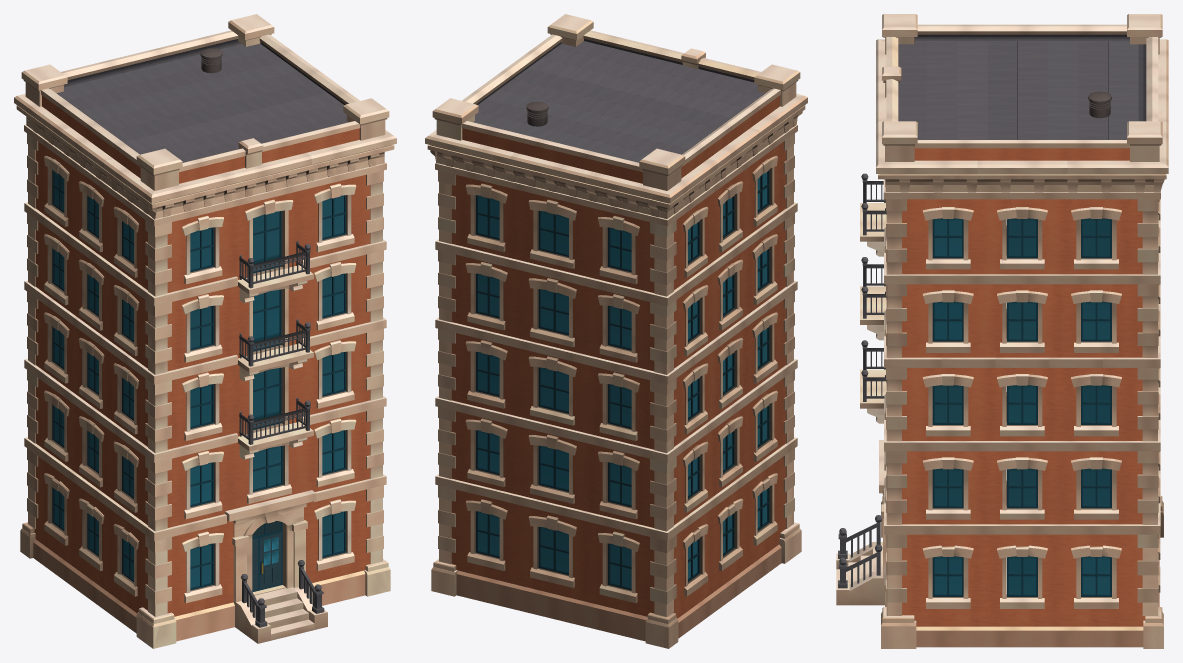
File: houdini_brick_townhouse.glb
3 renders of one model, left to right at view 1: azimuth 30°, elevation 25°; view 2: azimuth 150°, elevation 25°; view 3: azimuth 270°, elevation 25°, orthographic. The views are drawn at different scales.
Visible parts, largest first — view 1: LOD0; view 2: LOD0; view 3: LOD0.
Boxes of the visible parts, x1,y1,x2,y2 form: LOD0: (14,14,396,648); LOD0: (425,14,807,648); LOD0: (836,14,1168,648).
Size of what is drawn, in the model's own units: 10.1 by 18.99 by 11.13.
Materials: 4 (4 with a texture image).
